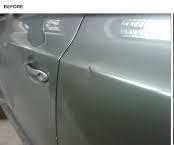dent: (80, 58, 134, 86)
